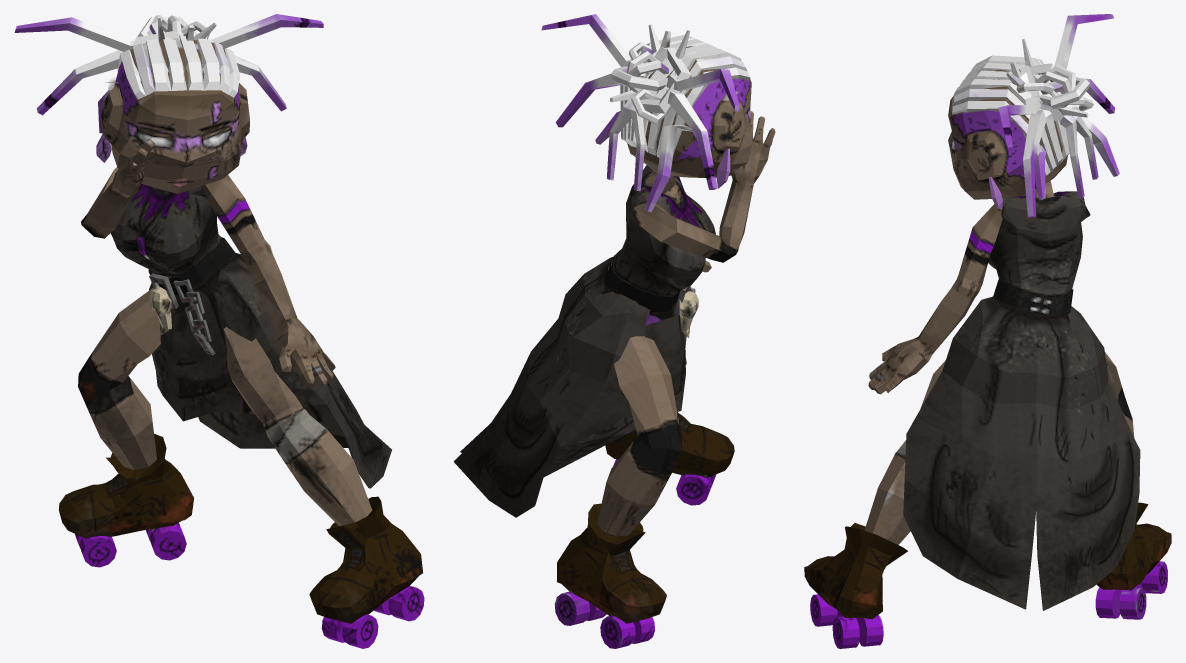
The model's file is bruja_000073.obj.
The picture shows the model from 3 angles, left to right: view 1: azimuth 30°, elevation 25°; view 2: azimuth 150°, elevation 25°; view 3: azimuth 270°, elevation 25°; orthographic projection. The views are drawn at different scales.
Visible parts, largest first — view 1: Bruja_Plane.001; view 2: Bruja_Plane.001; view 3: Bruja_Plane.001.
Boxes of the visible parts, x1,y1,x2,y2 form: Bruja_Plane.001: [14, 14, 424, 648]; Bruja_Plane.001: [453, 14, 775, 648]; Bruja_Plane.001: [804, 14, 1171, 648].
Size of the model in its own units: 9.13 by 15.42 by 9.26.
